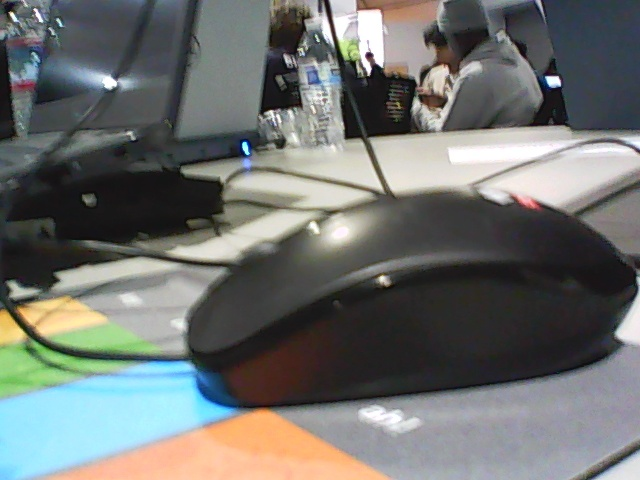mouse: (187, 192, 640, 407)
